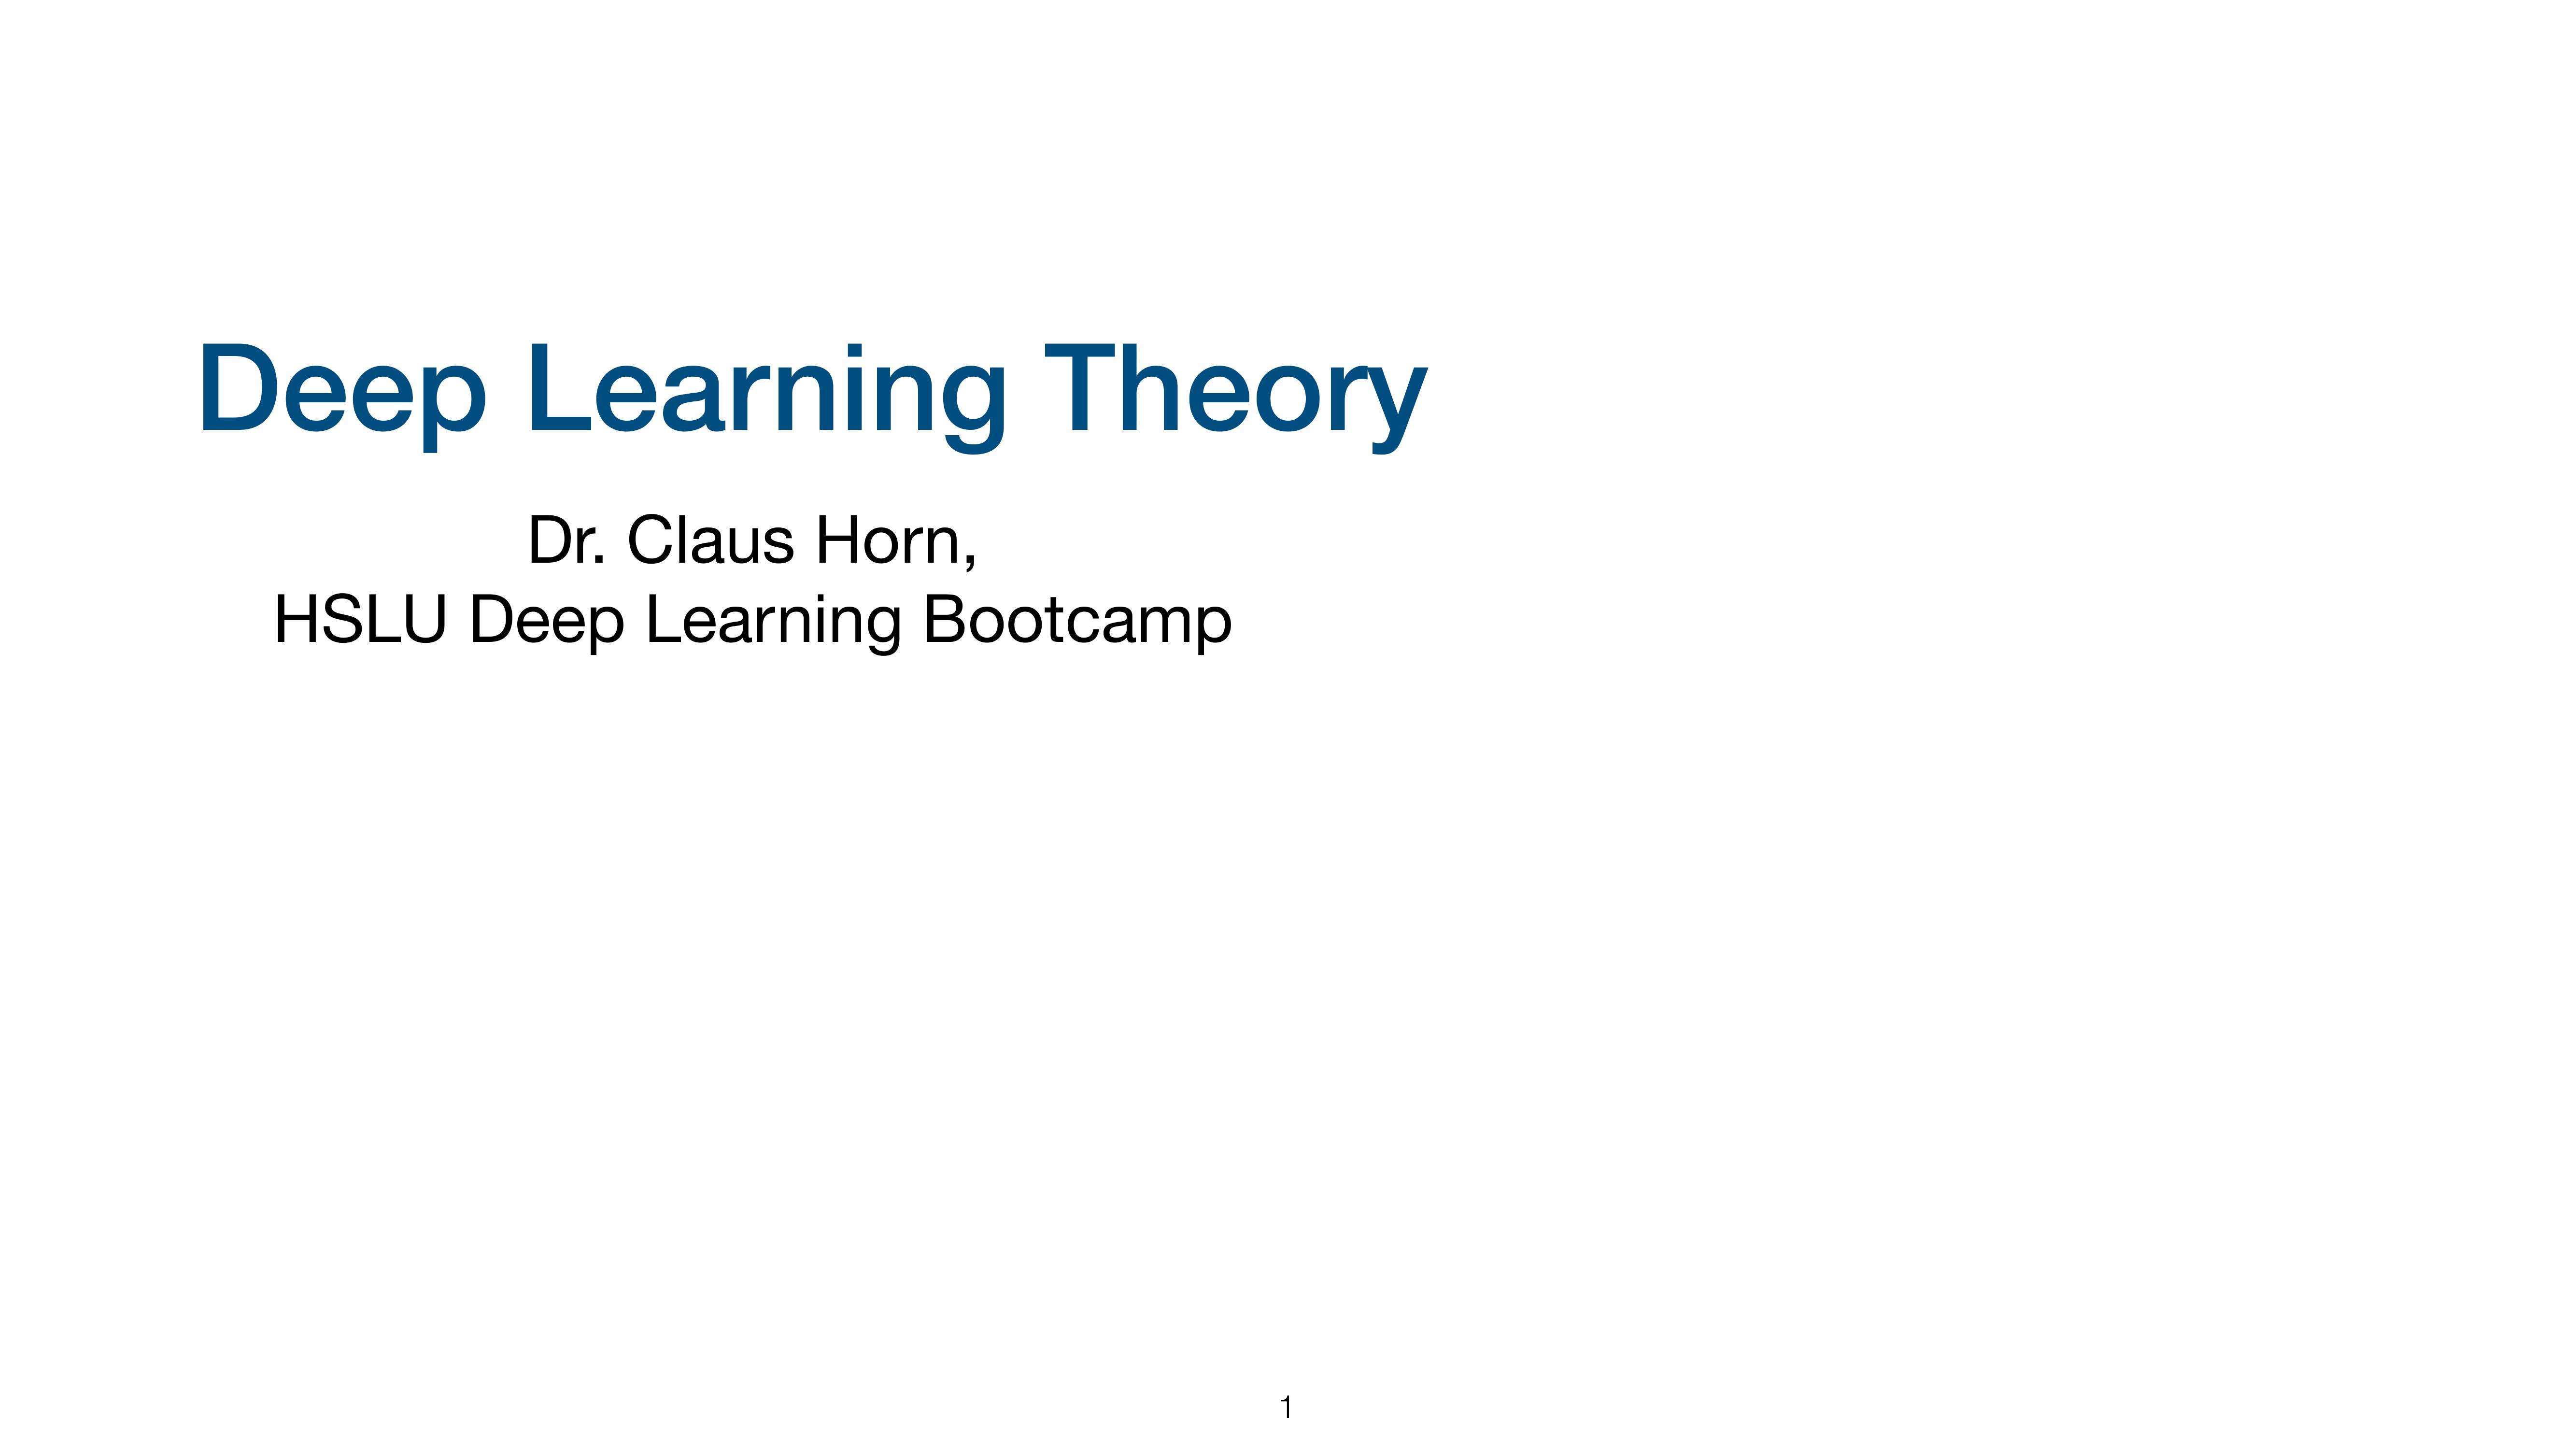Title: (161, 315, 1435, 476)
